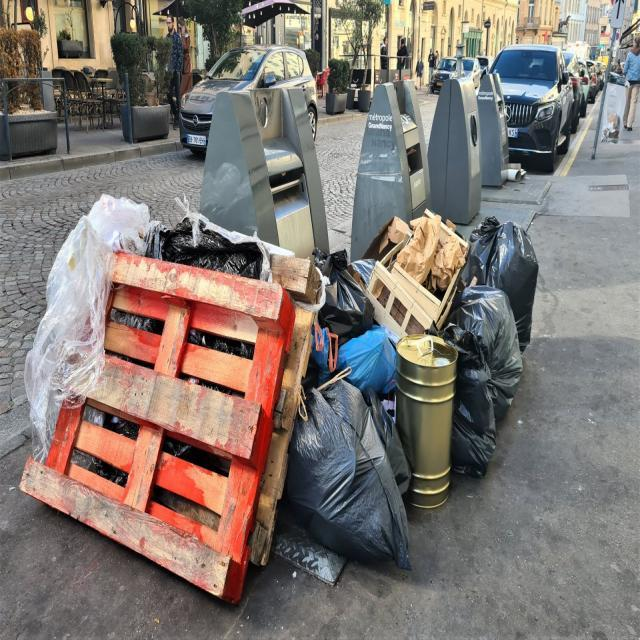garbage: (19, 138, 542, 600)
